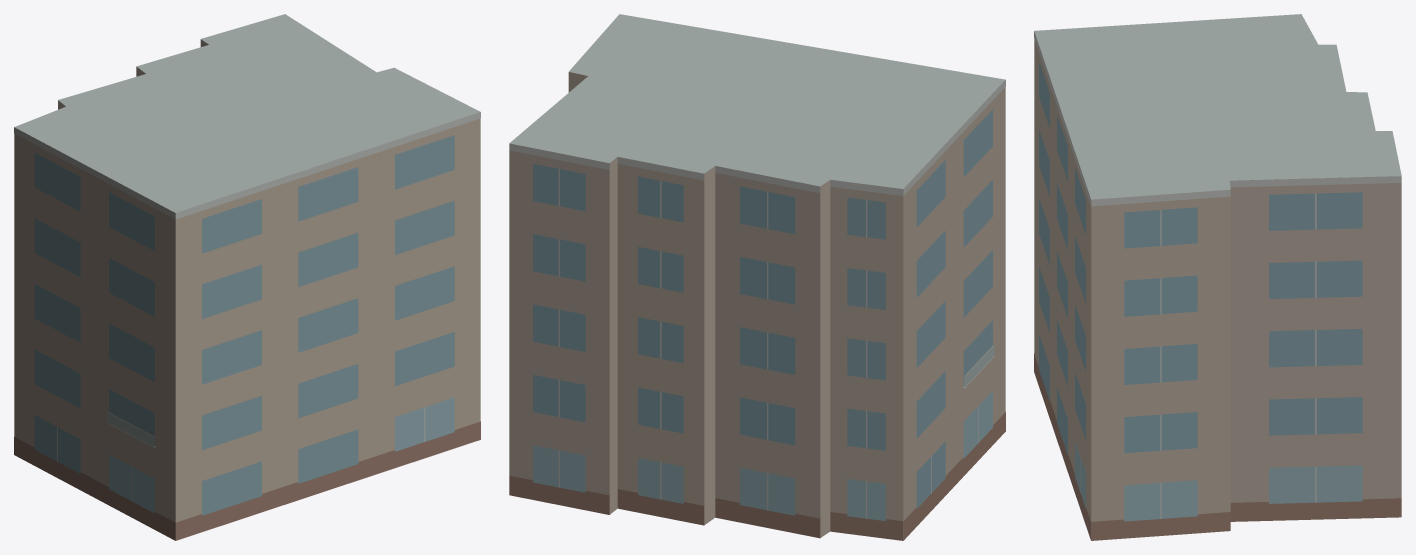
File: survey-upis-32907621.glb
3 renders of one model, left to right at view 1: azimuth 30°, elevation 25°; view 2: azimuth 150°, elevation 25°; view 3: azimuth 270°, elevation 25°, orthographic. The views are drawn at different scales.
Parts seen in each view (by area): view 1: survey-upis-32907621.tmp; view 2: survey-upis-32907621.tmp; view 3: survey-upis-32907621.tmp.
Part boxes in pixels (bbox=[...]): survey-upis-32907621.tmp: bbox=[14, 14, 480, 540]; survey-upis-32907621.tmp: bbox=[509, 14, 1005, 540]; survey-upis-32907621.tmp: bbox=[1034, 14, 1401, 540].
Bounding box in the file's own units: 14.48 × 12.4 × 12.12.
